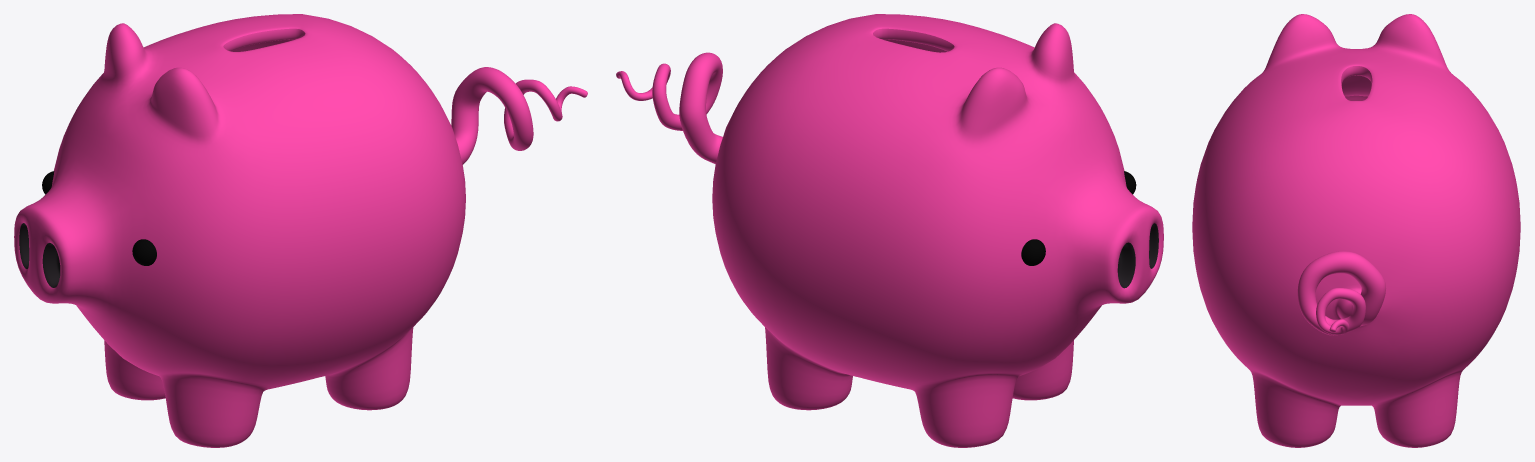
The model's file is pigUltranormal.fbx.
3 renders of one model, left to right at view 1: azimuth 30°, elevation 25°; view 2: azimuth 150°, elevation 25°; view 3: azimuth 270°, elevation 25°, orthographic. The views are drawn at different scales.
Parts seen in each view (by area): view 1: Symmetry; view 2: Symmetry; view 3: Symmetry.
Part boxes in pixels (bbox=[...]): Symmetry: bbox=[14, 14, 587, 447]; Symmetry: bbox=[616, 14, 1163, 447]; Symmetry: bbox=[1192, 14, 1520, 447].
Size of the model in its own units: 289 by 189 by 166.
